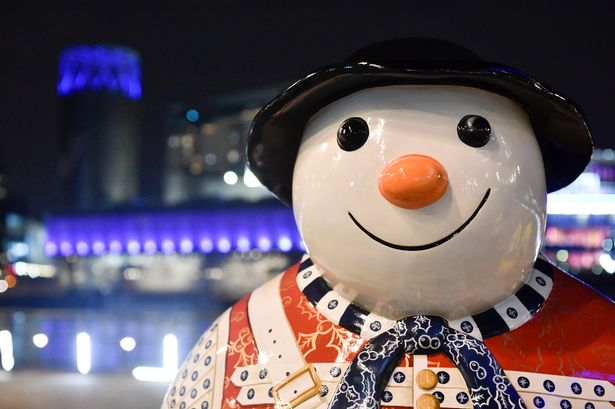person-like: (156, 38, 613, 409)
